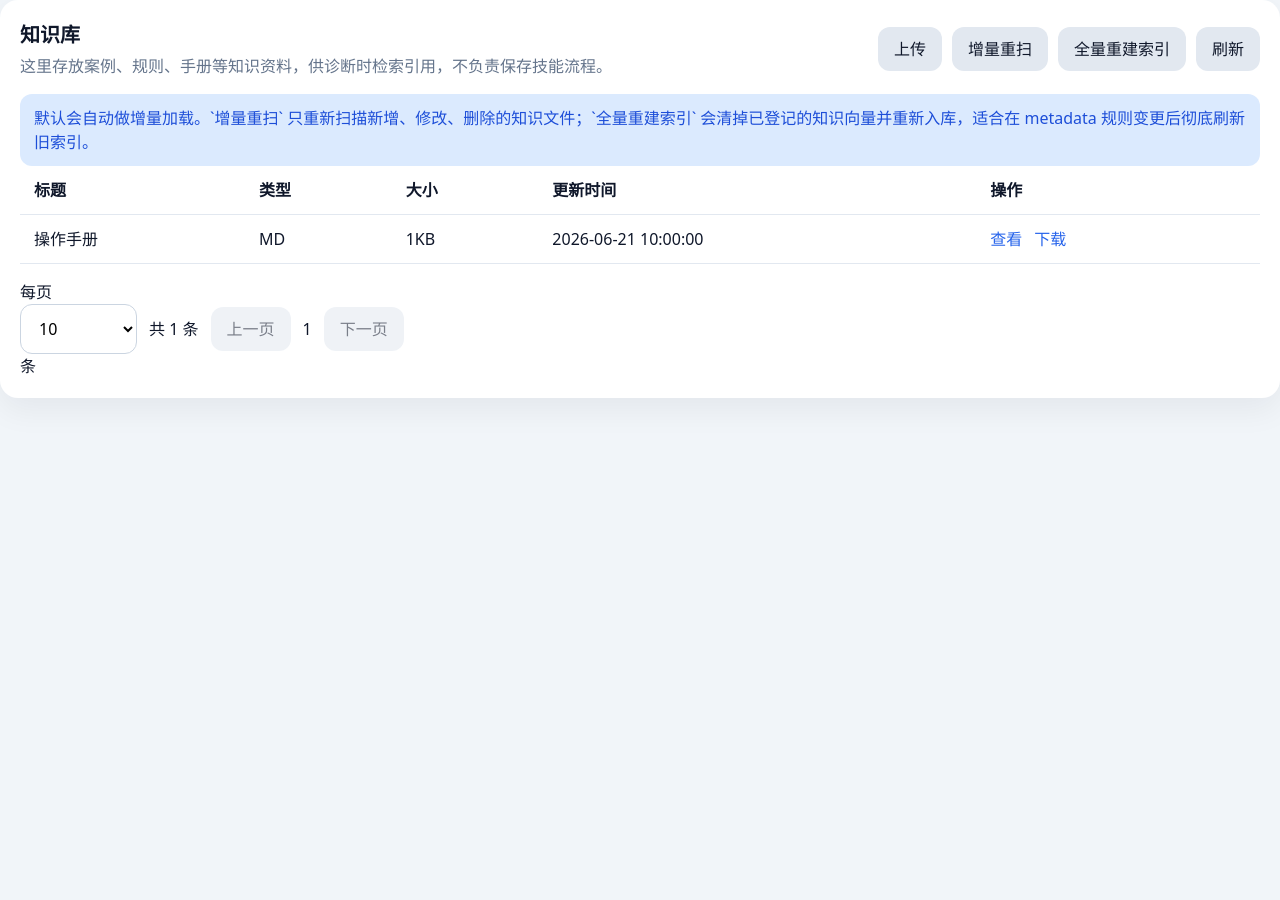
Test: KnowledgePage › Markdown 预览成功时展示转换后的 HTML
Click the button "查看" at (1006, 239), box [990,227,1022,251]
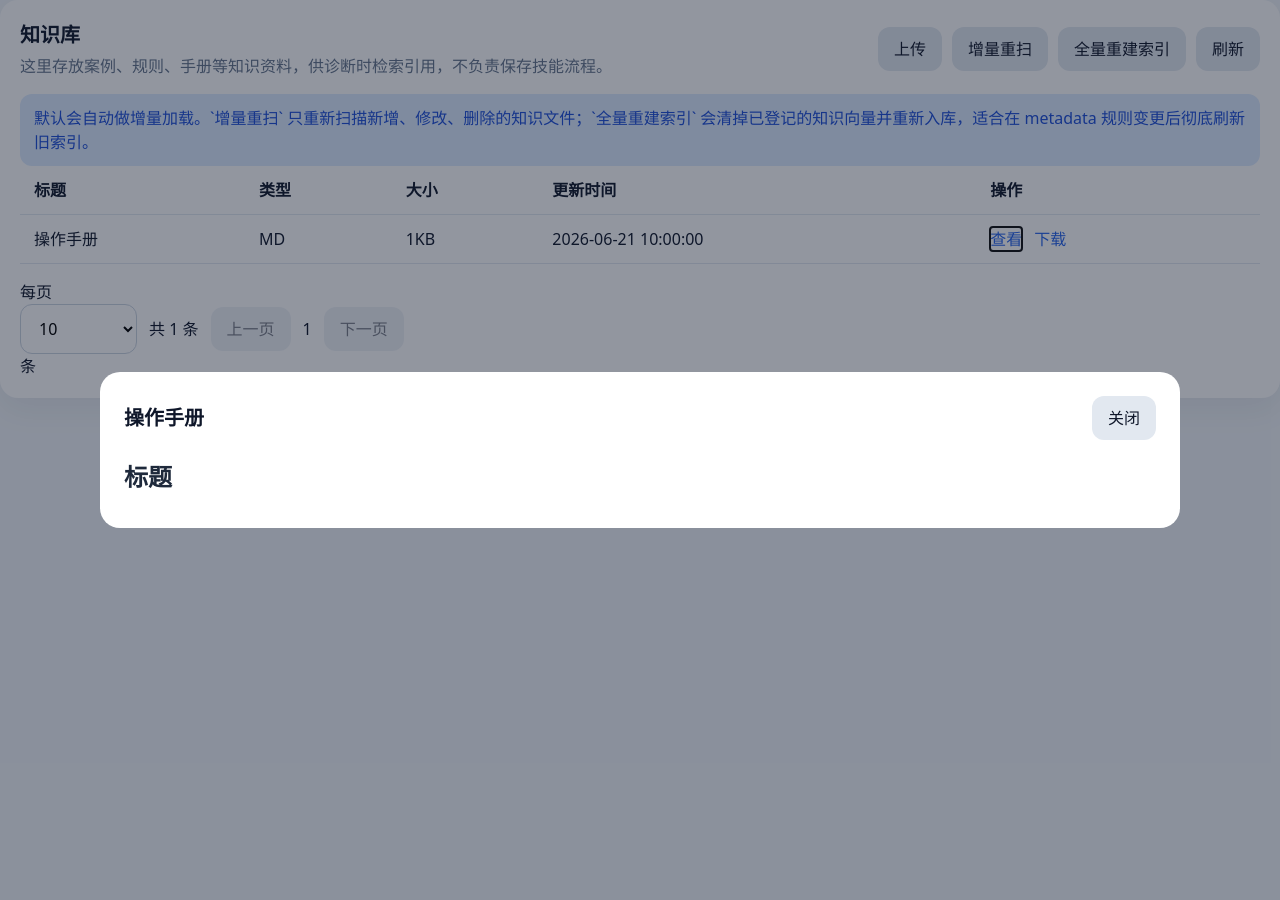
Now the button "关闭" is shown, box [1092,396,1156,440]
